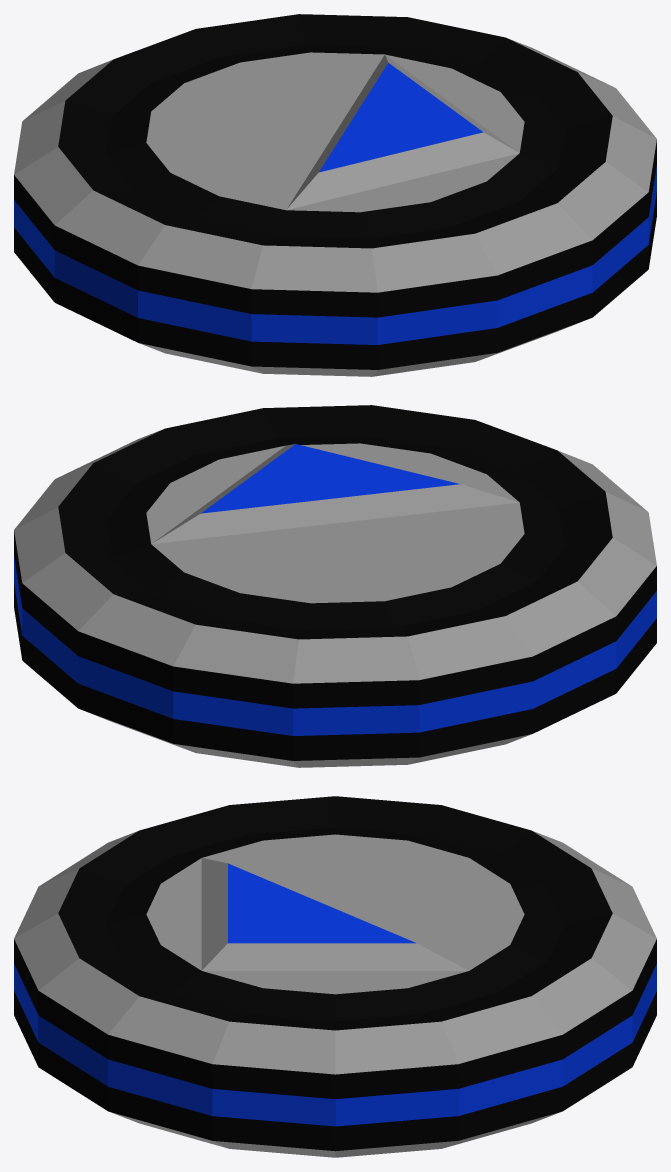
Rendered from AI_Roomba.fbx.
3 views of the same model, one above another, from view 1: azimuth 30°, elevation 25°; view 2: azimuth 150°, elevation 25°; view 3: azimuth 270°, elevation 25° (orthographic).
Parts seen in each view (by area): view 1: Romba; view 2: Romba; view 3: Romba.
Part boxes in pixels (box(x1,y1,x2,y2)): Romba: box(14, 14, 656, 376); Romba: box(14, 405, 656, 767); Romba: box(14, 796, 656, 1157).
Size of the model in its own units: 100 by 24.52 by 100.
